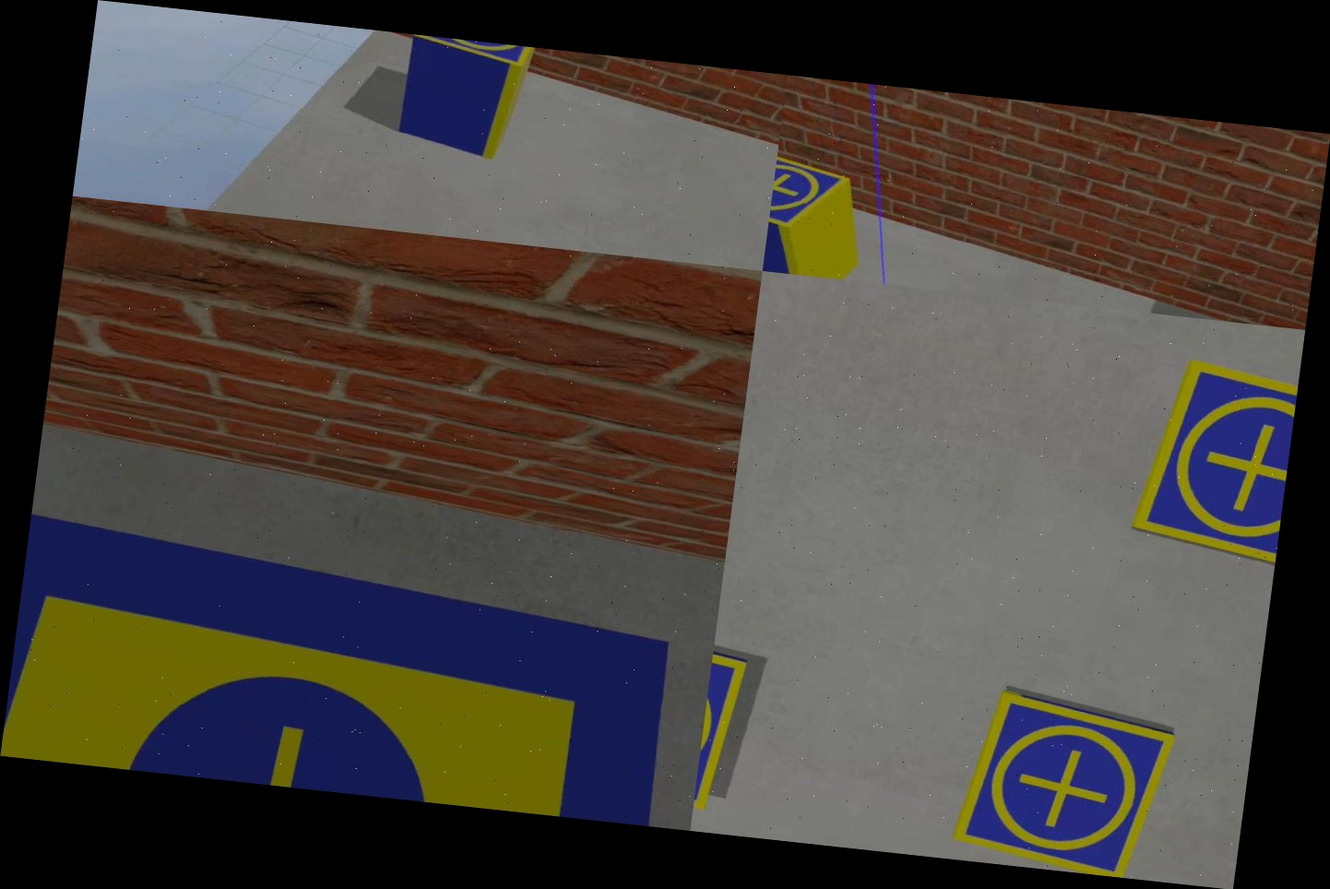large_base: (0, 480, 726, 830)
small_base: (950, 685, 1181, 881), (1125, 350, 1300, 575), (768, 144, 856, 236), (408, 34, 543, 77)
